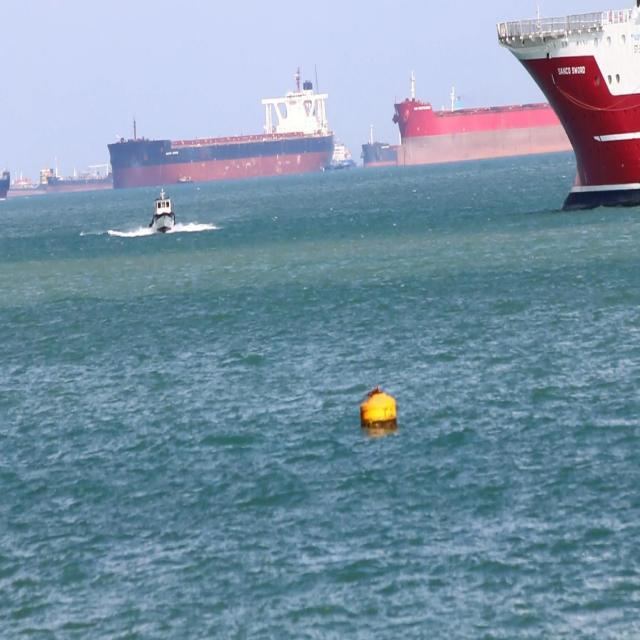CIV_Ship: (500, 0, 639, 213), (106, 66, 334, 190), (391, 64, 578, 168), (44, 158, 112, 193), (358, 381, 399, 429), (360, 121, 403, 166), (1, 164, 42, 200), (149, 186, 176, 235), (326, 138, 356, 166)
